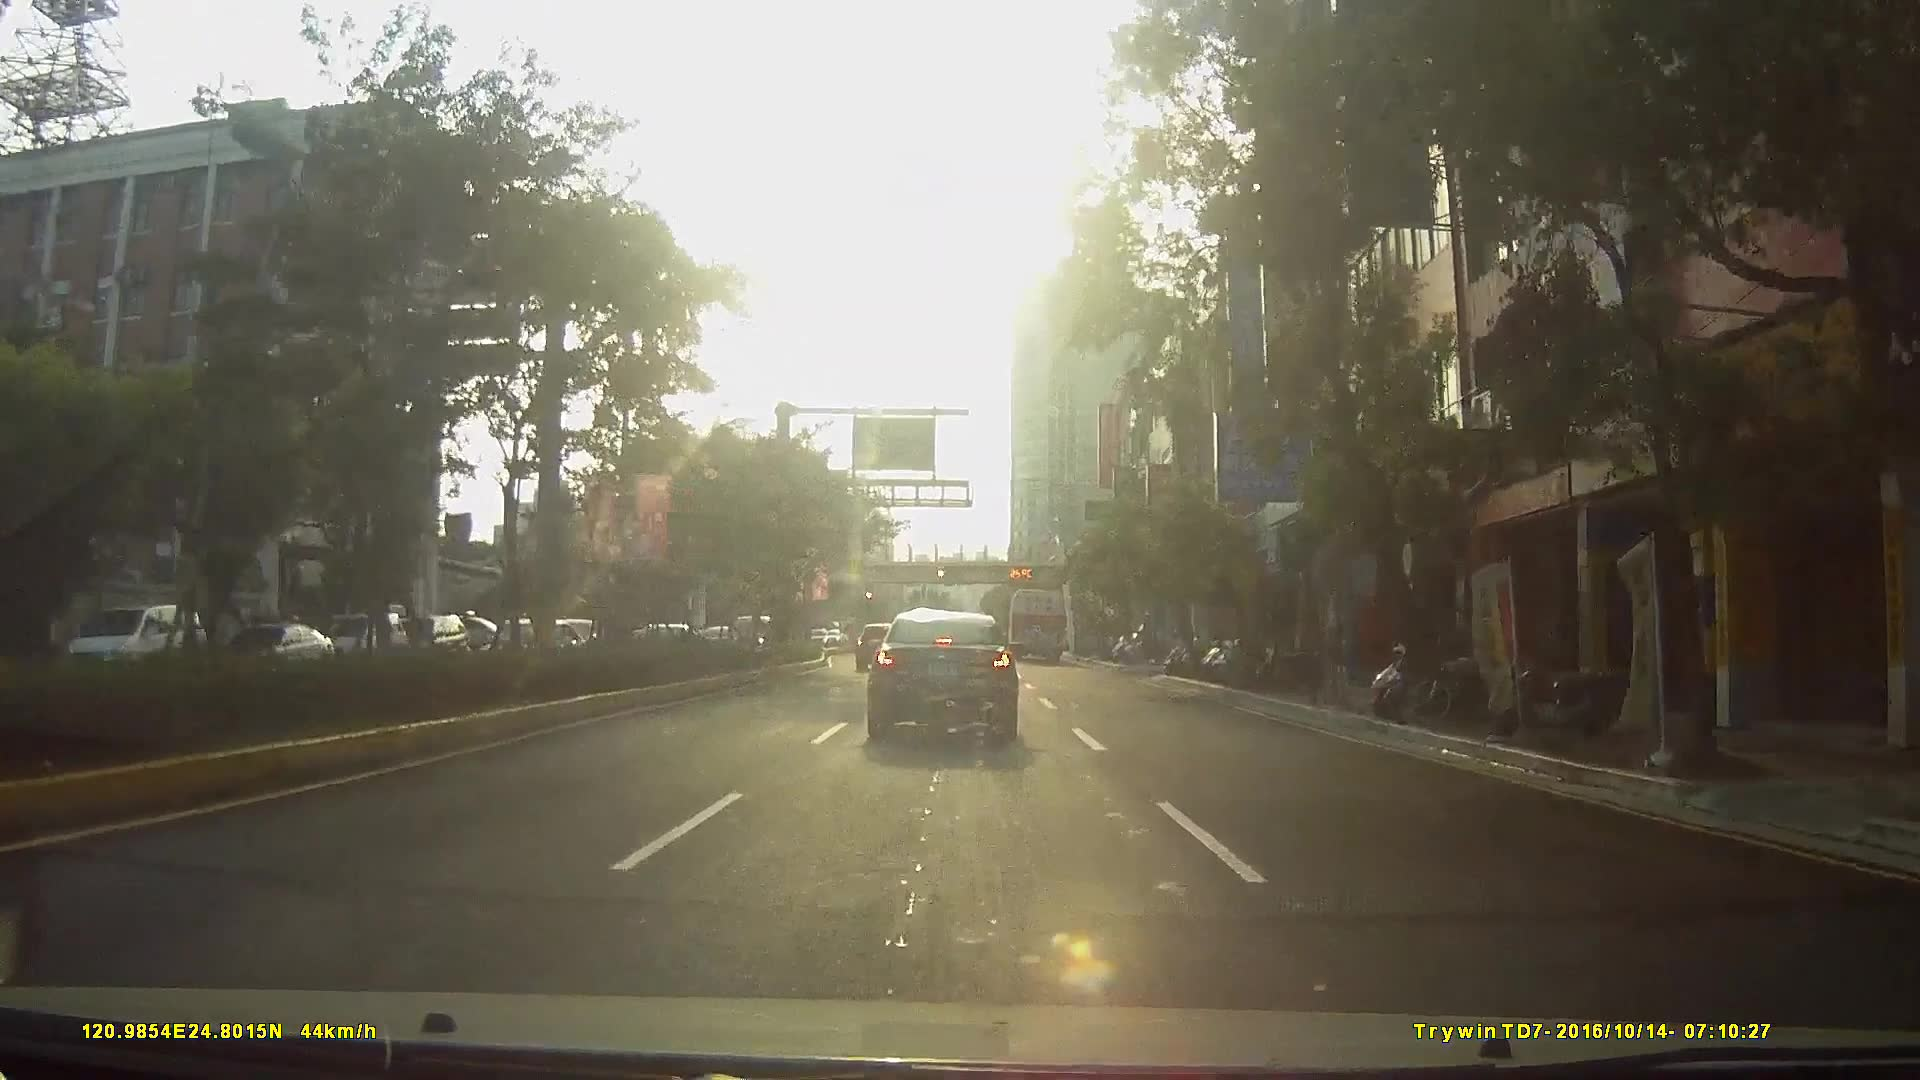vehicle: (862, 607, 1018, 738), (51, 601, 200, 679), (206, 620, 342, 687), (1005, 582, 1068, 658), (320, 609, 404, 666), (393, 611, 465, 665), (485, 611, 547, 651), (853, 621, 898, 670)
